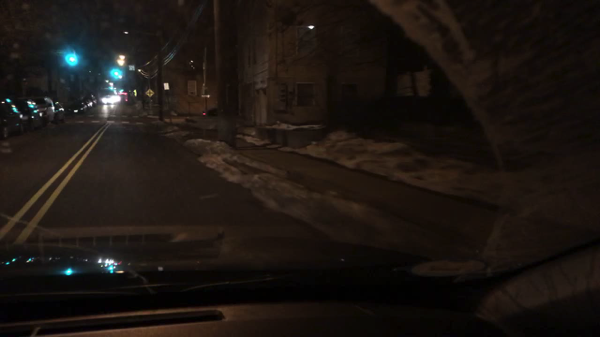car: (1, 98, 27, 140), (16, 101, 45, 131), (31, 98, 58, 122), (50, 102, 66, 121), (67, 102, 88, 116), (81, 100, 92, 110), (90, 96, 102, 105), (84, 98, 97, 106), (101, 98, 114, 105), (110, 96, 121, 103)
traffic light: (67, 52, 76, 66), (112, 69, 120, 79)
traffic sign: (145, 88, 153, 98), (163, 81, 170, 91), (128, 64, 135, 72), (132, 89, 137, 96)
